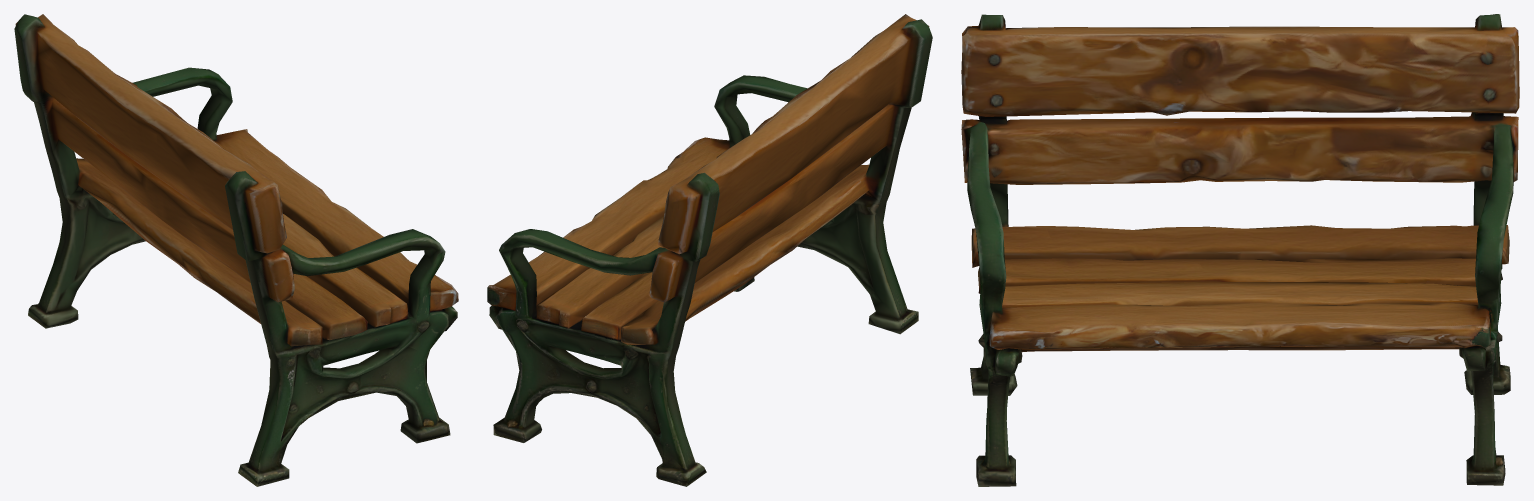
Rendered from banco.glb.
3 renders of one model, left to right at view 1: azimuth 30°, elevation 25°; view 2: azimuth 150°, elevation 25°; view 3: azimuth 270°, elevation 25°, orthographic. The views are drawn at different scales.
Parts seen in each view (by area): view 1: tripo_node_cb9e5229-e6c6-46f9-b345-b8042cf109e4; view 2: tripo_node_cb9e5229-e6c6-46f9-b345-b8042cf109e4; view 3: tripo_node_cb9e5229-e6c6-46f9-b345-b8042cf109e4.
Part boxes in pixels (x1,y1,x2,y2): tripo_node_cb9e5229-e6c6-46f9-b345-b8042cf109e4: [14, 14, 458, 486]; tripo_node_cb9e5229-e6c6-46f9-b345-b8042cf109e4: [487, 14, 932, 486]; tripo_node_cb9e5229-e6c6-46f9-b345-b8042cf109e4: [961, 14, 1519, 486].
Size of the model in its own units: 0.5491 by 0.6988 by 0.9817.
1 material, 1 textured.
